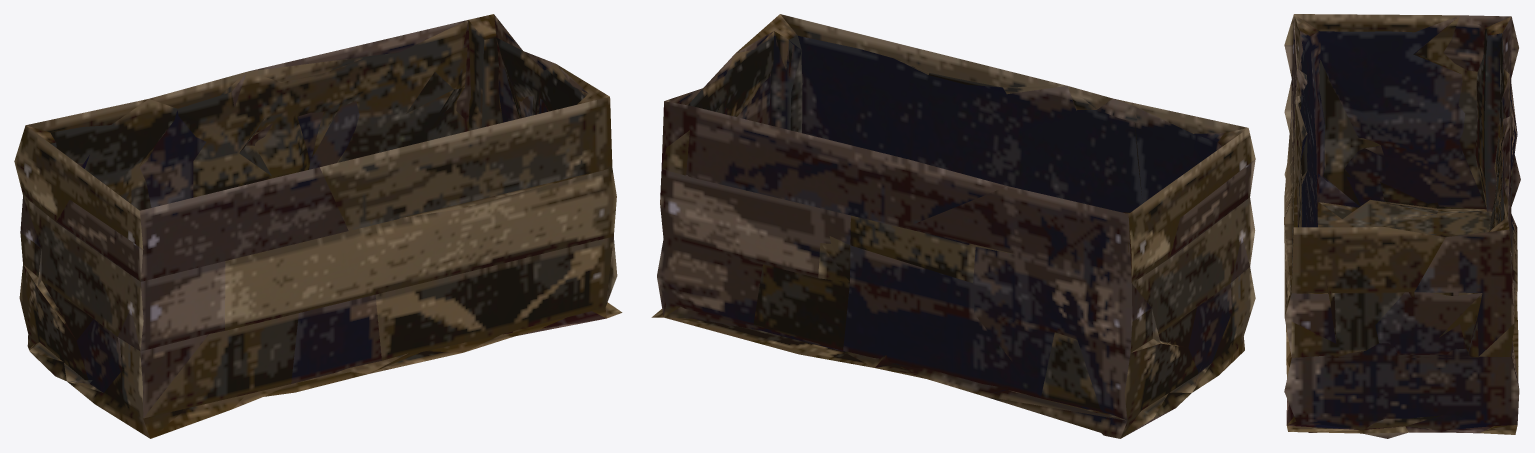
File: planter_box_01.glb
The picture shows the model from 3 angles, left to right: view 1: azimuth 30°, elevation 25°; view 2: azimuth 150°, elevation 25°; view 3: azimuth 270°, elevation 25°; orthographic projection. The views are drawn at different scales.
Visible parts, largest first — view 1: mesh; view 2: mesh; view 3: mesh.
Part boxes in pixels (bbox=[...]): mesh: bbox=[14, 14, 622, 438]; mesh: bbox=[651, 14, 1255, 438]; mesh: bbox=[1284, 14, 1520, 438].
Size of the model in its own units: 0.9286 by 0.425 by 0.421.
1 material, 1 textured.
